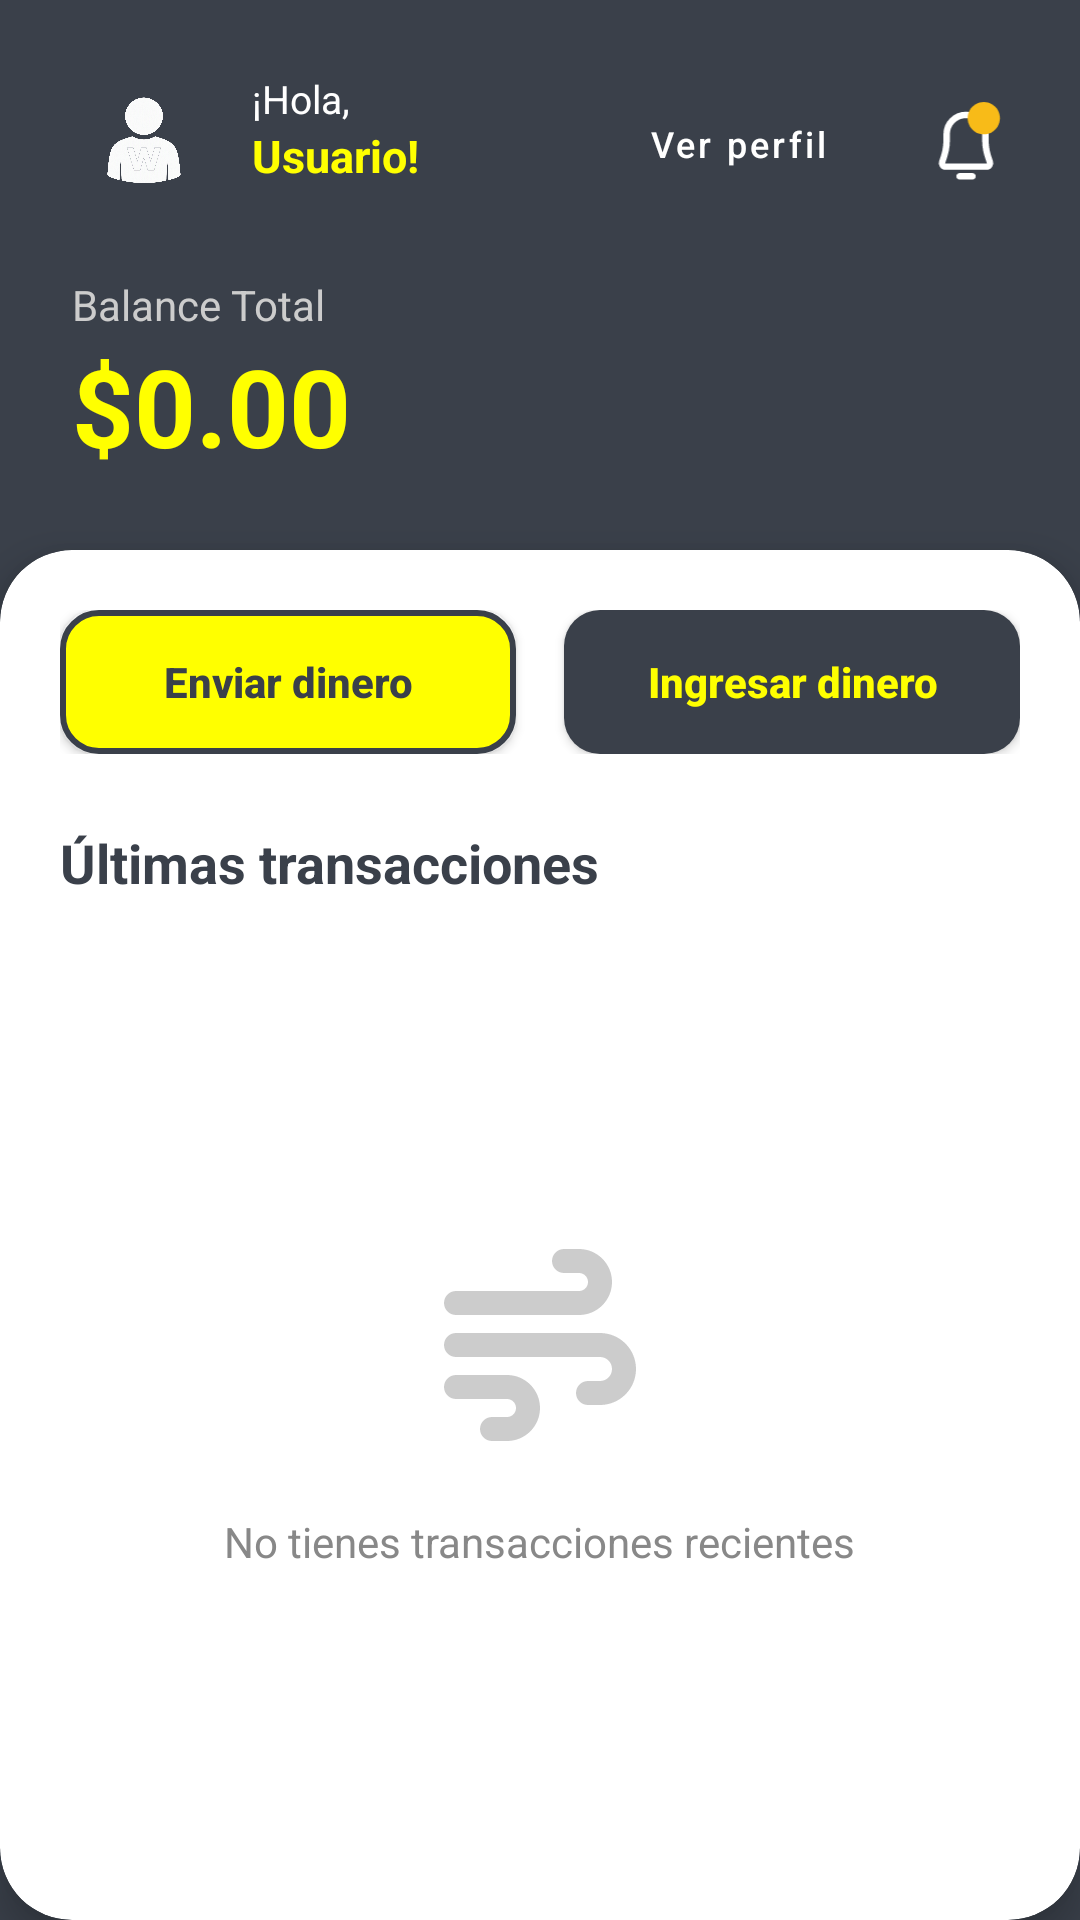

Icons on this 1080×1920 Android screen, each with the point to tap as [x,y]:
Foto de perfil: [144,140]
Notificaciones: [969,141]
